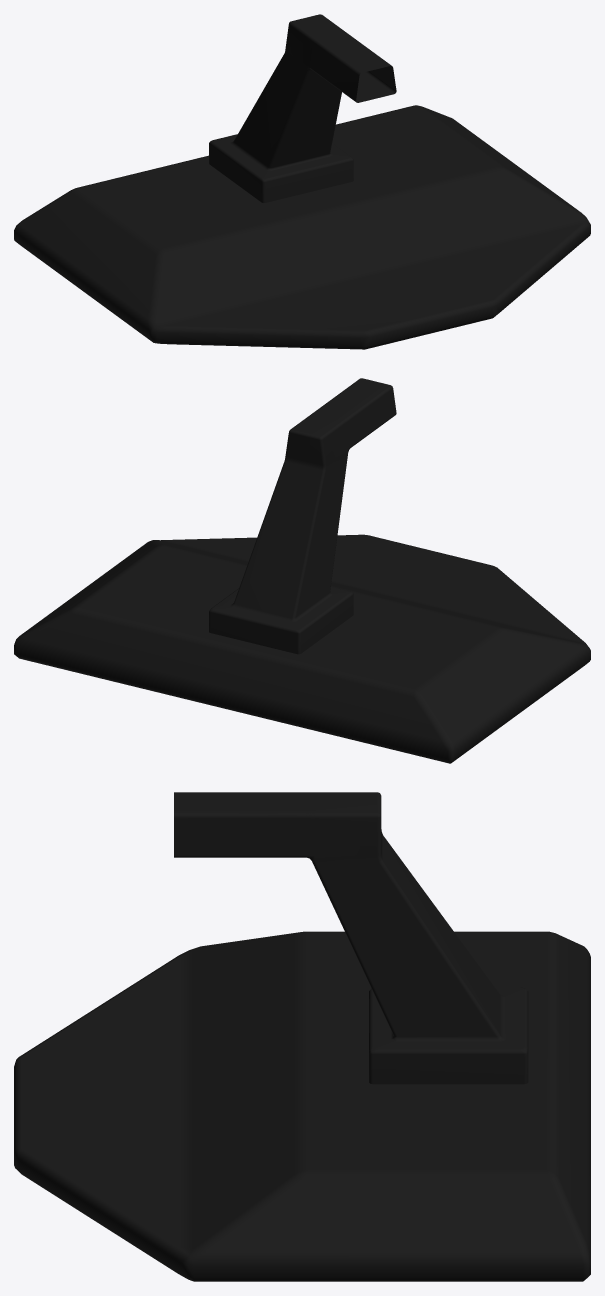
The model's file is monitor-base.glb.
3 views of the same model, one above another, from view 1: azimuth 30°, elevation 25°; view 2: azimuth 150°, elevation 25°; view 3: azimuth 270°, elevation 25° (orthographic). The views are drawn at different scales.
Visible parts, largest first — view 1: Base; view 2: Base; view 3: Base.
Boxes of the visible parts, x1=… form: Base: x1=14, y1=14, x2=590, y2=349; Base: x1=14, y1=378, x2=590, y2=763; Base: x1=14, y1=792, x2=590, y2=1281.
Size of the model in its own units: 0.356 by 0.1745 by 0.279.
Materials: 1 (1 with a texture image).
